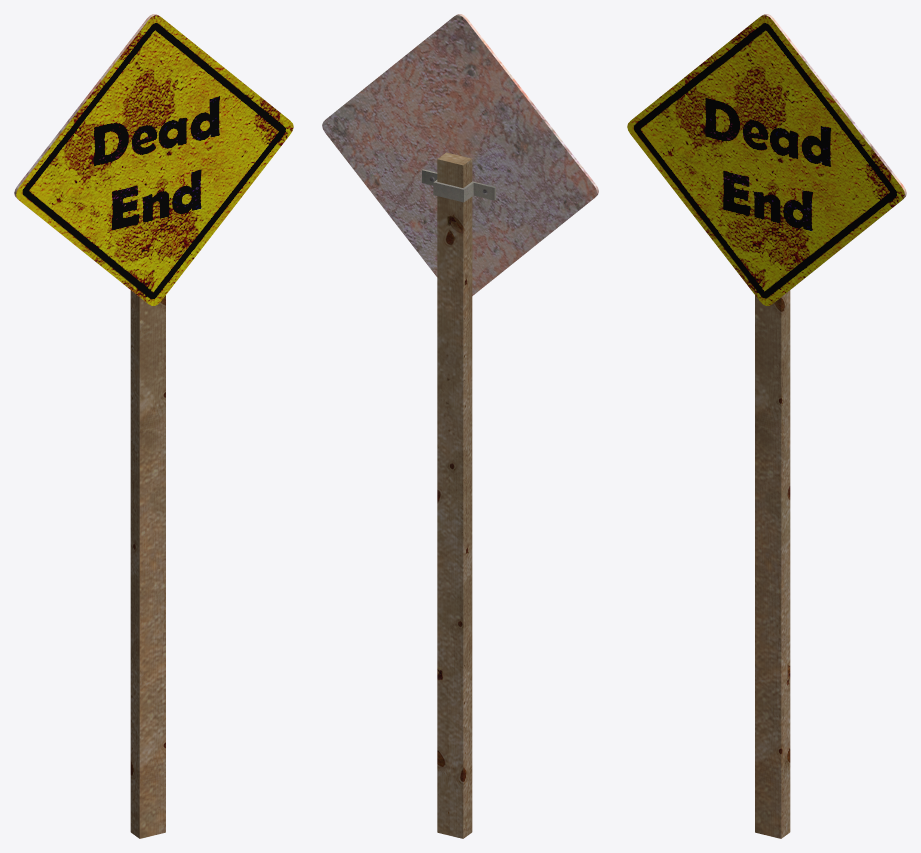
The model's file is Dead_end_sign.FBX.
The picture shows the model from 3 angles, left to right: view 1: azimuth 30°, elevation 25°; view 2: azimuth 150°, elevation 25°; view 3: azimuth 330°, elevation 25°; orthographic projection.
Parts seen in each view (by area): view 1: Dead_end_sign; view 2: Dead_end_sign; view 3: Dead_end_sign.
Boxes of the visible parts, x1,y1,x2,y2 form: Dead_end_sign: [14, 14, 293, 838]; Dead_end_sign: [322, 14, 598, 838]; Dead_end_sign: [627, 14, 906, 838].
Size of the model in its own units: 104 by 293 by 8.22.
